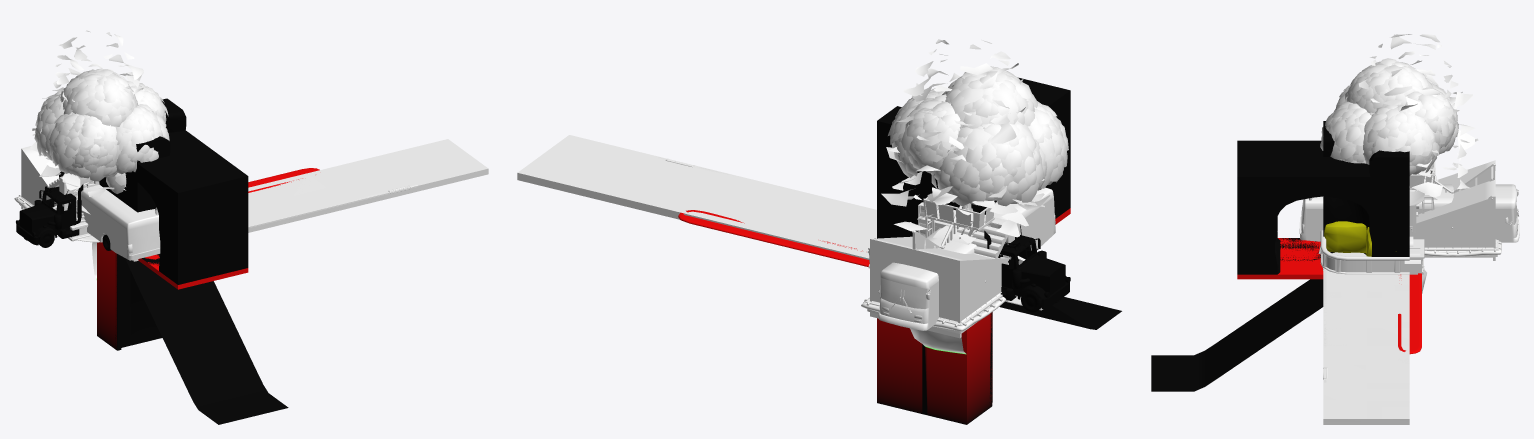
The model's file is performance-city-2.glb.
The picture shows the model from 3 angles, left to right: view 1: azimuth 30°, elevation 25°; view 2: azimuth 150°, elevation 25°; view 3: azimuth 270°, elevation 25°; orthographic projection. The views are drawn at different scales.
Parts seen in each view (by area): view 1: /Game/Packages/DS_Fortnite_Terrain_NoLOD/Elevation/S_Cave_Tu, /Game/Packages/DS_Fortnite_Terrain_NoLOD/Elevation/S_Cave_Ra, /Game/Athena/Prototype/Terrain/Athena_Tree_Medium_01, /Game/Environments/World/Sidewalks/Meshes/S_Sidewalk_1x5_NoC, /Game/Packages/DS_Fortnite_Terrain_NoLOD/RetainingWalls/S_Wa (×2), /Game/Environments/World/Sidewalks/Meshes/S_Sidewalk_1x4, /Game/Vehicles/FORT_Vehicles_01/Meshes/CityBus, /Game/Vehicles/FORT_Vehicles_01/Meshes/SemiTruck_Tractor_01, /Game/Athena/Prototype/Terrain/Athena_Tree_Pine_02, /Game/Packages/DS_Fortnite_Terrain_NoLOD/Elevation/S_Cave_In, /Game/Environments/Sets/ParkingGarage/Meshes/SM_FloorBigRamp, /Game/Packages/DS_Fortnight/SM/Mesh/S_Road_Crosswalk_B (+1 smaller); view 2: /Game/Athena/Prototype/Terrain/Athena_Tree_Medium_01, /Game/Environments/World/Sidewalks/Meshes/S_Sidewalk_1x5_NoC, /Game/Packages/DS_Fortnite_Terrain_NoLOD/RetainingWalls/S_Wa (×2), /Game/Environments/World/Sidewalks/Meshes/S_Sidewalk_1x4, /Game/Environments/Sets/ParkingGarage/Meshes/SM_FloorBigRamp, /Game/Vehicles/FORT_Vehicles_01/Meshes/CityBus, /Game/Athena/Prototype/Terrain/Athena_Tree_Pine_02, /Game/Vehicles/FORT_Vehicles_01/Meshes/SemiTruck_Tractor_01, /Game/Packages/DS_Fortnite_Terrain_NoLOD/Elevation/S_Cave_Tu, /Game/Packages/DS_Fortnite_Terrain_NoLOD/Elevation/S_Cave_In, /Game/Packages/DS_Fortnite_Terrain_NoLOD/Elevation/S_Cave_Ra, /Game/Environments/World/Sidewalks/Meshes/S_Sidewalk_Street_ (+4 smaller); view 3: /Game/Packages/DS_Fortnite_Terrain_NoLOD/Elevation/S_Cave_Tu, /Game/Athena/Prototype/Terrain/Athena_Tree_Medium_01, /Game/Environments/World/Sidewalks/Meshes/S_Sidewalk_1x5_NoC, /Game/Environments/World/Sidewalks/Meshes/S_Sidewalk_1x4, /Game/Packages/DS_Fortnite_Terrain_NoLOD/Elevation/S_Cave_Ra, /Game/Packages/DS_Fortnite_Terrain_NoLOD/Elevation/S_Cave_In, /Game/Environments/Sets/ParkingGarage/Meshes/SM_FloorBigRamp, /Game/Athena/Prototype/Terrain/Athena_Tree_Pine_02, /Game/Vehicles/FORT_Vehicles_01/Meshes/CityBus, /Game/Packages/DS_Fortnight/SM/Mesh/S_Road_Crosswalk_B, /Game/Packages/DS_Fortnight/SM/Mesh/S_Bridge_Railing_Curve_B, /Game/Environments/Props/Shrubs/Meshes/Shrub_LShaped_192 (+5 smaller).
Part boxes in pixels (box(x1,y1,x2,y2)): /Game/Packages/DS_Fortnite_Terrain_NoLOD/Elevation/S_Cave_Tu: box(104, 130, 248, 284); /Game/Packages/DS_Fortnite_Terrain_NoLOD/Elevation/S_Cave_Ra: box(125, 258, 288, 424); /Game/Athena/Prototype/Terrain/Athena_Tree_Medium_01: box(34, 68, 169, 193); /Game/Environments/World/Sidewalks/Meshes/S_Sidewalk_1x5_NoC: box(248, 139, 488, 227); /Game/Packages/DS_Fortnite_Terrain_NoLOD/RetainingWalls/S_Wa (×2): box(97, 242, 162, 350); /Game/Environments/World/Sidewalks/Meshes/S_Sidewalk_1x4: box(248, 156, 418, 232); /Game/Vehicles/FORT_Vehicles_01/Meshes/CityBus: box(63, 174, 160, 260); /Game/Vehicles/FORT_Vehicles_01/Meshes/SemiTruck_Tractor_01: box(16, 171, 83, 247); /Game/Athena/Prototype/Terrain/Athena_Tree_Pine_02: box(30, 30, 144, 196); /Game/Packages/DS_Fortnite_Terrain_NoLOD/Elevation/S_Cave_In: box(116, 98, 186, 212); /Game/Environments/Sets/ParkingGarage/Meshes/SM_FloorBigRamp: box(21, 146, 58, 206); /Game/Packages/DS_Fortnight/SM/Mesh/S_Road_Crosswalk_B: box(138, 254, 248, 289); /Game/Athena/Prototype/Terrain/Athena_Tree_Medium_01: box(888, 66, 1068, 206); /Game/Environments/World/Sidewalks/Meshes/S_Sidewalk_1x5_NoC: box(517, 135, 876, 247); /Game/Packages/DS_Fortnite_Terrain_NoLOD/RetainingWalls/S_Wa (×2): box(877, 312, 992, 424); /Game/Environments/World/Sidewalks/Meshes/S_Sidewalk_1x4: box(607, 157, 869, 259); /Game/Environments/Sets/ParkingGarage/Meshes/SM_FloorBigRamp: box(870, 236, 1008, 334); /Game/Vehicles/FORT_Vehicles_01/Meshes/CityBus: box(878, 187, 1055, 330); /Game/Athena/Prototype/Terrain/Athena_Tree_Pine_02: box(881, 39, 1050, 243); /Game/Vehicles/FORT_Vehicles_01/Meshes/SemiTruck_Tractor_01: box(984, 224, 1070, 312); /Game/Packages/DS_Fortnite_Terrain_NoLOD/Elevation/S_Cave_Tu: box(877, 77, 1070, 237); /Game/Packages/DS_Fortnite_Terrain_NoLOD/Elevation/S_Cave_In: box(877, 106, 996, 238); /Game/Packages/DS_Fortnite_Terrain_NoLOD/Elevation/S_Cave_Ra: box(999, 297, 1121, 329); /Game/Environments/World/Sidewalks/Meshes/S_Sidewalk_Street_: box(678, 210, 869, 266); /Game/Packages/DS_Fortnite_Terrain_NoLOD/Elevation/S_Cave_Tu: box(1237, 140, 1371, 274); /Game/Athena/Prototype/Terrain/Athena_Tree_Medium_01: box(1320, 58, 1458, 175); /Game/Environments/World/Sidewalks/Meshes/S_Sidewalk_1x5_NoC: box(1323, 255, 1409, 424); /Game/Environments/World/Sidewalks/Meshes/S_Sidewalk_1x4: box(1323, 255, 1409, 382); /Game/Packages/DS_Fortnite_Terrain_NoLOD/Elevation/S_Cave_Ra: box(1151, 279, 1323, 391); /Game/Packages/DS_Fortnite_Terrain_NoLOD/Elevation/S_Cave_In: box(1323, 121, 1409, 256); /Game/Environments/Sets/ParkingGarage/Meshes/SM_FloorBigRamp: box(1411, 160, 1495, 257); /Game/Athena/Prototype/Terrain/Athena_Tree_Pine_02: box(1359, 34, 1478, 205); /Game/Vehicles/FORT_Vehicles_01/Meshes/CityBus: box(1299, 184, 1519, 242); /Game/Packages/DS_Fortnight/SM/Mesh/S_Road_Crosswalk_B: box(1237, 238, 1323, 279); /Game/Packages/DS_Fortnight/SM/Mesh/S_Bridge_Railing_Curve_B: box(1320, 230, 1409, 274); /Game/Environments/Props/Shrubs/Meshes/Shrub_LShaped_192: box(1324, 221, 1396, 256).
Bounding box in the file's own units: 30.88 × 22.4 × 21.91.
